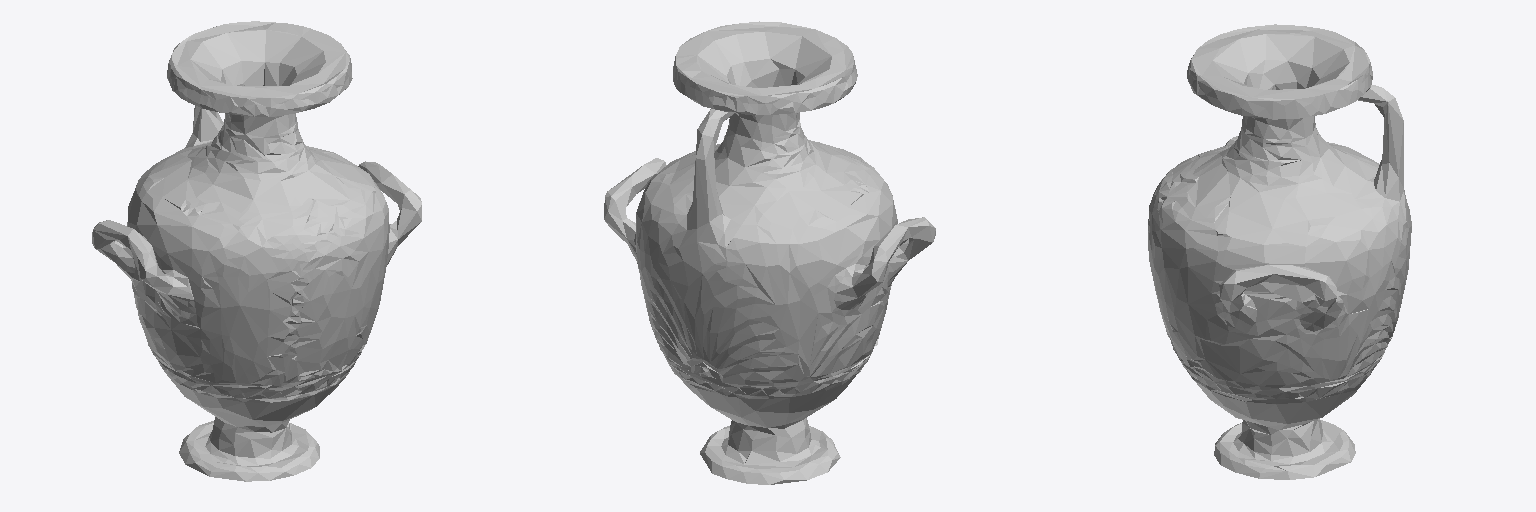
The model's file is vase.obj.
The picture shows the model from 3 angles: view 1: azimuth 30°, elevation 25°; view 2: azimuth 150°, elevation 25°; view 3: azimuth 270°, elevation 25°; orthographic projection.
Parts seen in each view (by area): view 1: vase; view 2: vase; view 3: vase.
Boxes of the visible parts, box(x1,y1,x2,y2) form: vase: box(92, 21, 421, 481); vase: box(604, 21, 935, 484); vase: box(1148, 24, 1411, 479).
Bounding box in the file's own units: 2.17 × 2.88 × 1.75.